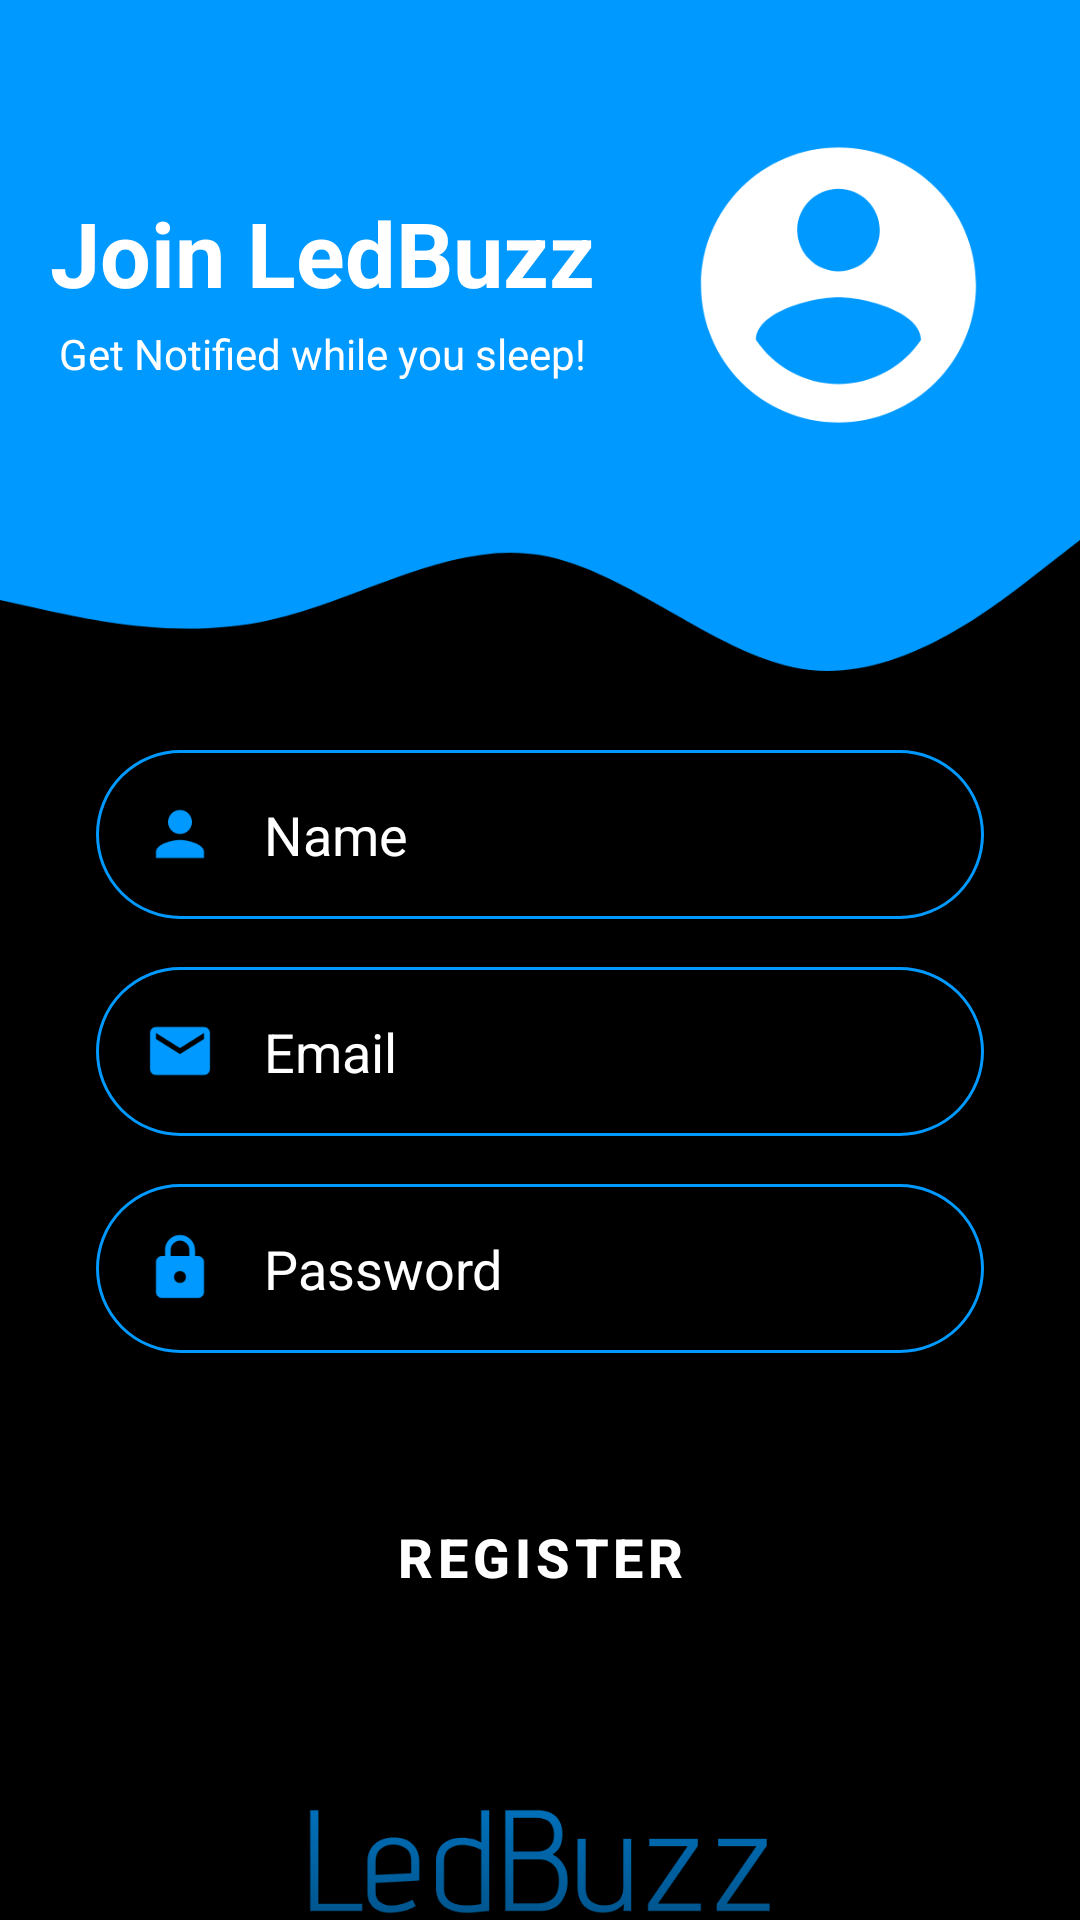

Screen size 1080px×1920px. Icon name, then its box in pixels as (x1, y1, x2, y2):
account circle: (700, 147, 977, 423)
